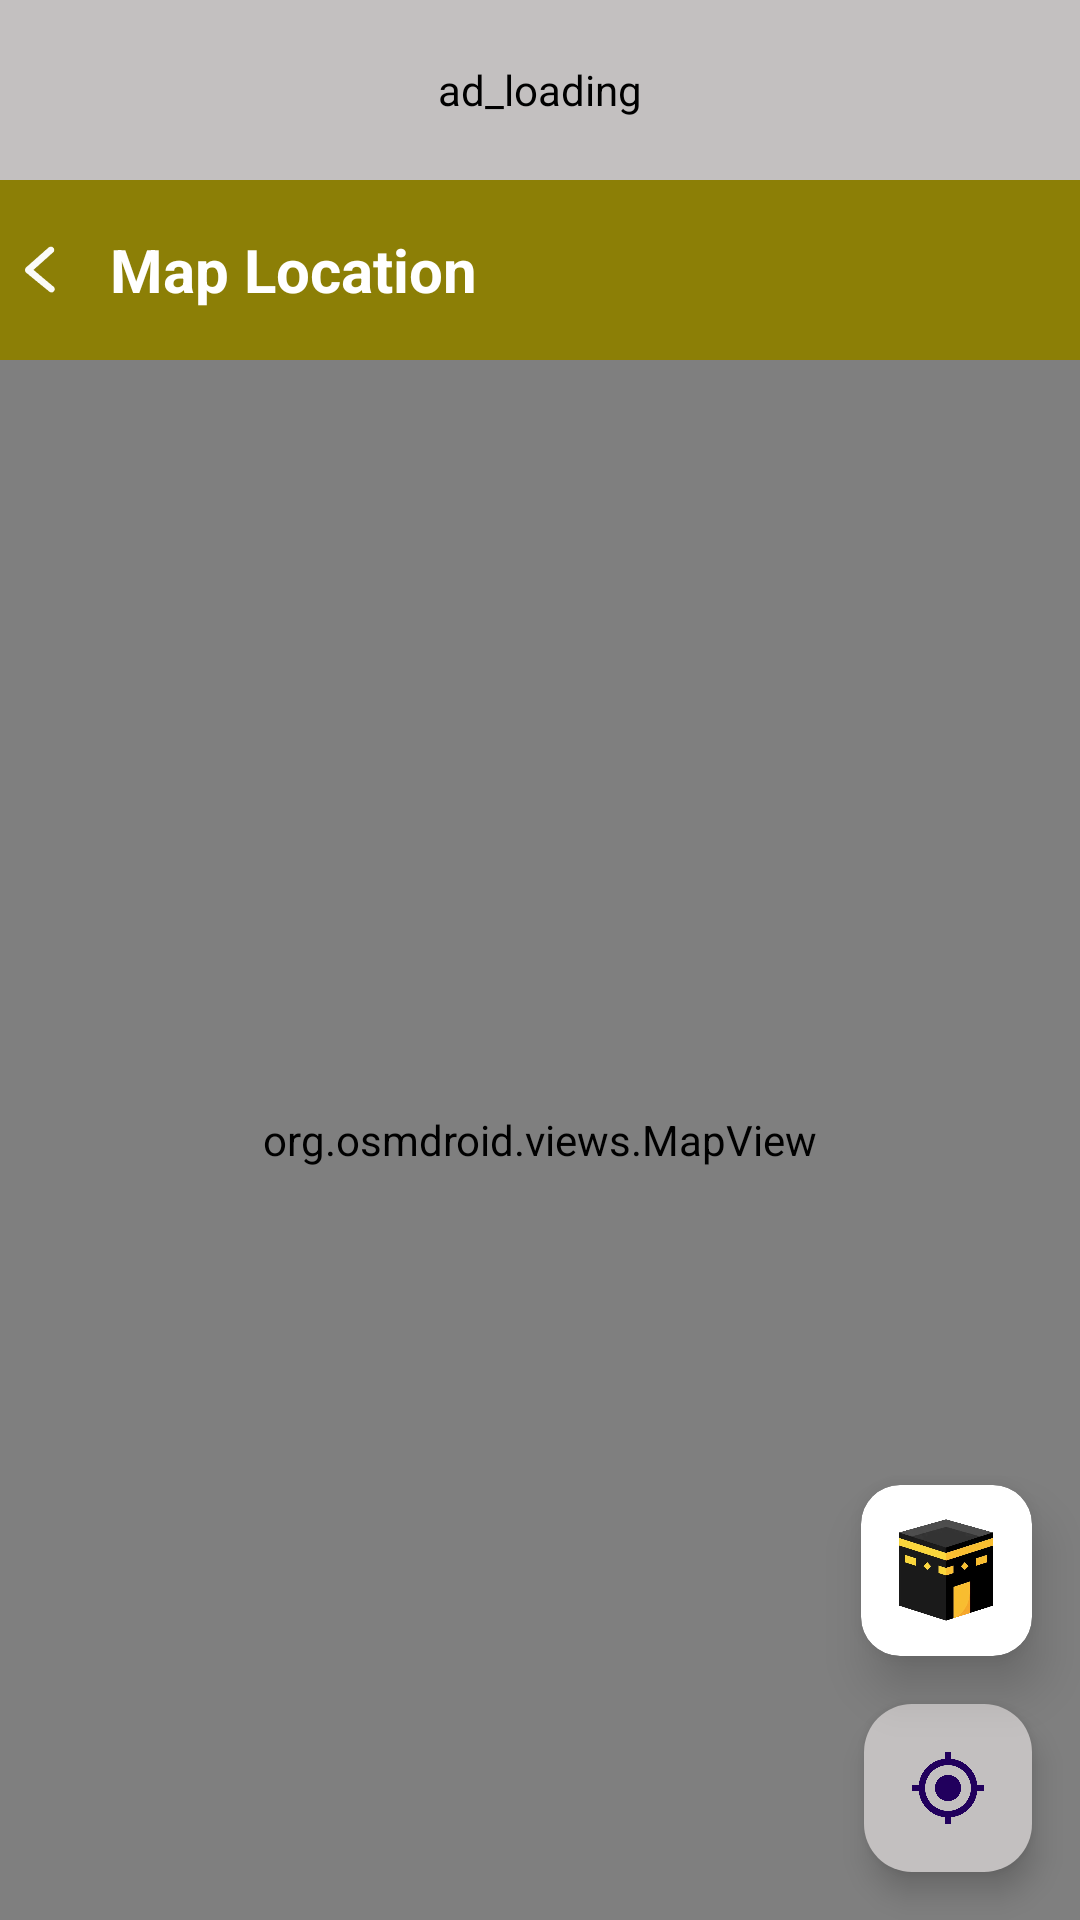

Icons on this 1080 × 1920 Android screen, each with its box as (x1, y1, x2, y2):
mecca map: (899, 1519, 993, 1621)
